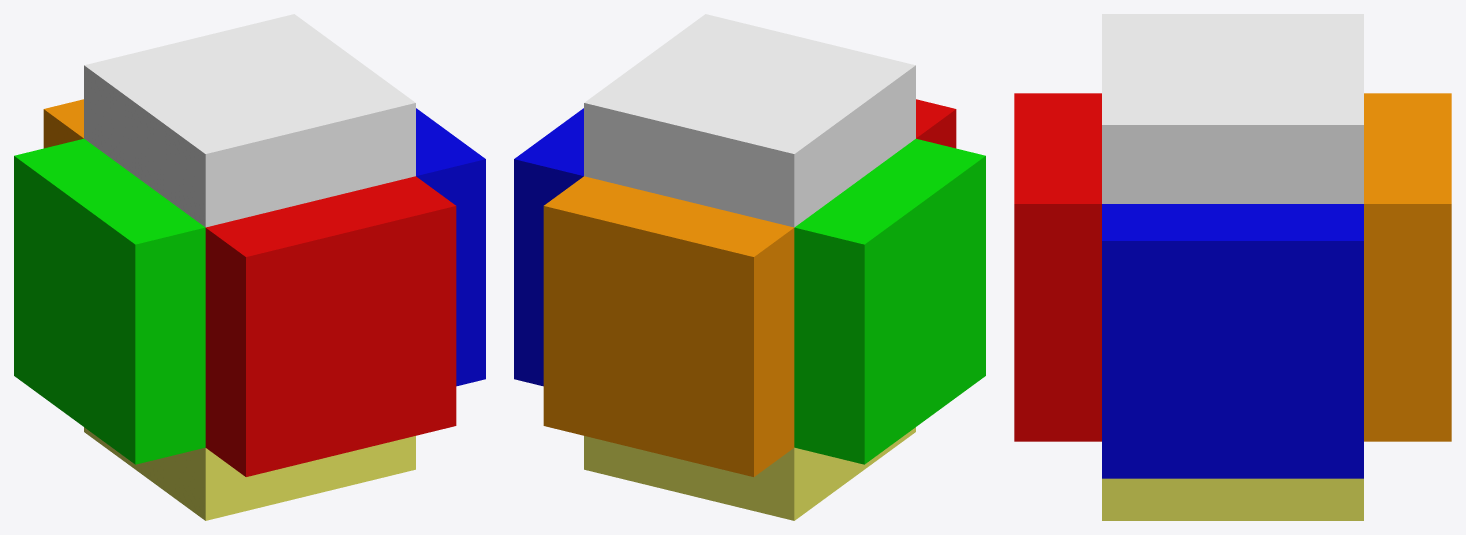
Rendered from target_obj.obj.
3 views of the same model, side by side, from view 1: azimuth 30°, elevation 25°; view 2: azimuth 150°, elevation 25°; view 3: azimuth 270°, elevation 25° (orthographic). The views are drawn at different scales.
Parts seen in each view (by area): view 1: target_obj; view 2: target_obj; view 3: target_obj.
Part boxes in pixels (x1,y1,x2,y2): target_obj: (14, 14, 485, 520); target_obj: (514, 14, 985, 520); target_obj: (1014, 14, 1451, 520).
Bounding box in the file's own units: 0.5 × 0.5 × 0.5.
